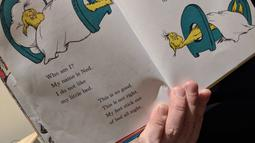text block: (41, 59, 99, 106), (95, 79, 146, 127)
